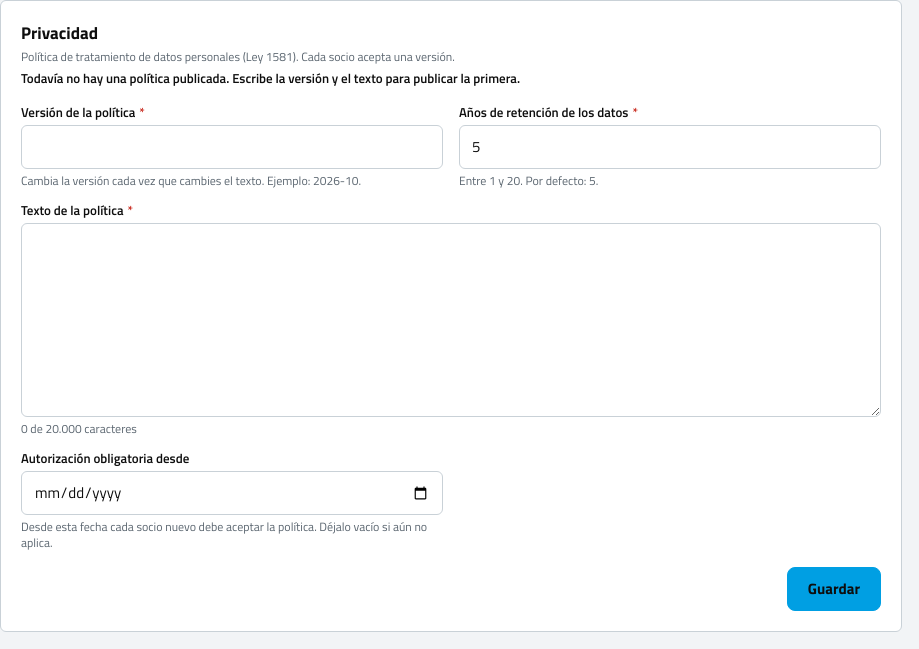
it: PrivacySettingsForm › cuenta los caracteres del texto contra el máximo de 20.000
Expected: the field labelled "Versión de la política*" is shown, [21,125,443,169]
Expected: the text "0 de 20.000 caracteres" is shown, [21,419,137,438]
In the text box labelled "Texto de la política*": (451, 320) [21,223,881,417], type "Hola"
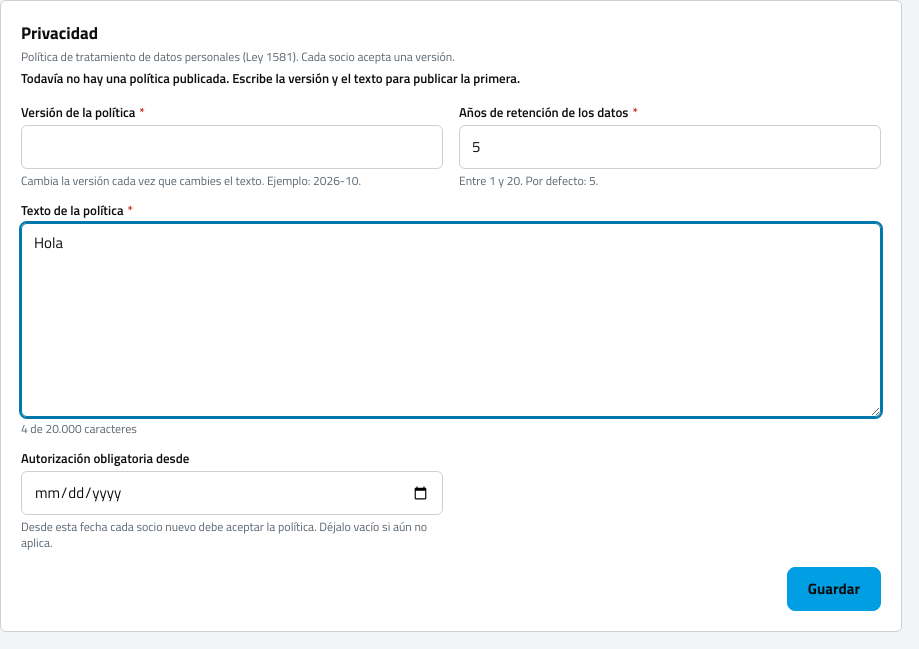
Expected: the text "4 de 20.000 caracteres" is shown, [21,419,137,438]
